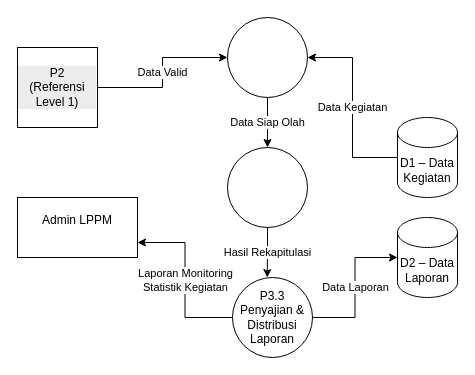
Image size: 475x375. Some labels were removed from this diagram. Each missing label, with the box of its shape:
P3.1 Pengambilan Data Kegiatan: (226, 16, 308, 98)
P3.2 Pengolahan & Rekapitulasi: (226, 146, 308, 228)
